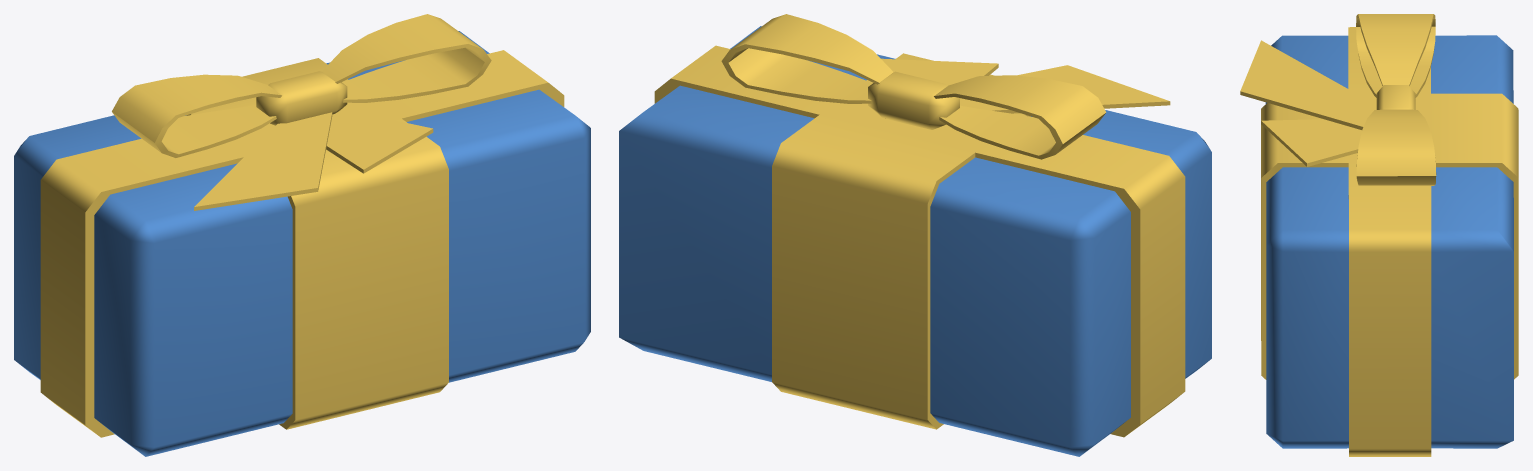
The model's file is Gift_8_231109.glb.
3 renders of one model, left to right at view 1: azimuth 30°, elevation 25°; view 2: azimuth 150°, elevation 25°; view 3: azimuth 270°, elevation 25°, orthographic. The views are drawn at different scales.
Parts seen in each view (by area): view 1: Gift_8; view 2: Gift_8; view 3: Gift_8.
Part boxes in pixels (x1,y1,x2,y2): Gift_8: (14, 14, 590, 456); Gift_8: (619, 14, 1211, 456); Gift_8: (1240, 14, 1518, 456).
Size of the model in its own units: 0.7006 by 0.4182 by 0.3804.
1 material, 1 textured.
